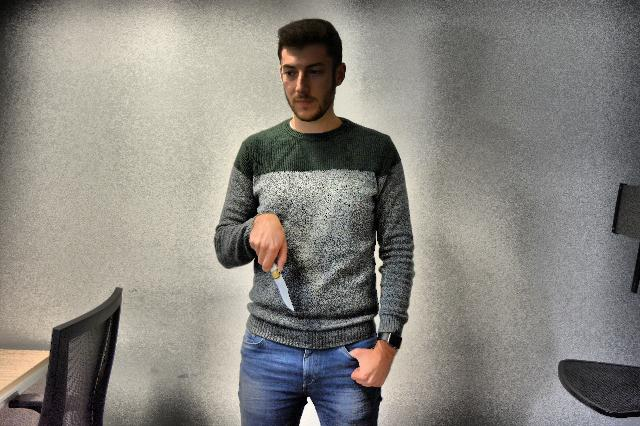knife: (256, 249, 296, 316)
